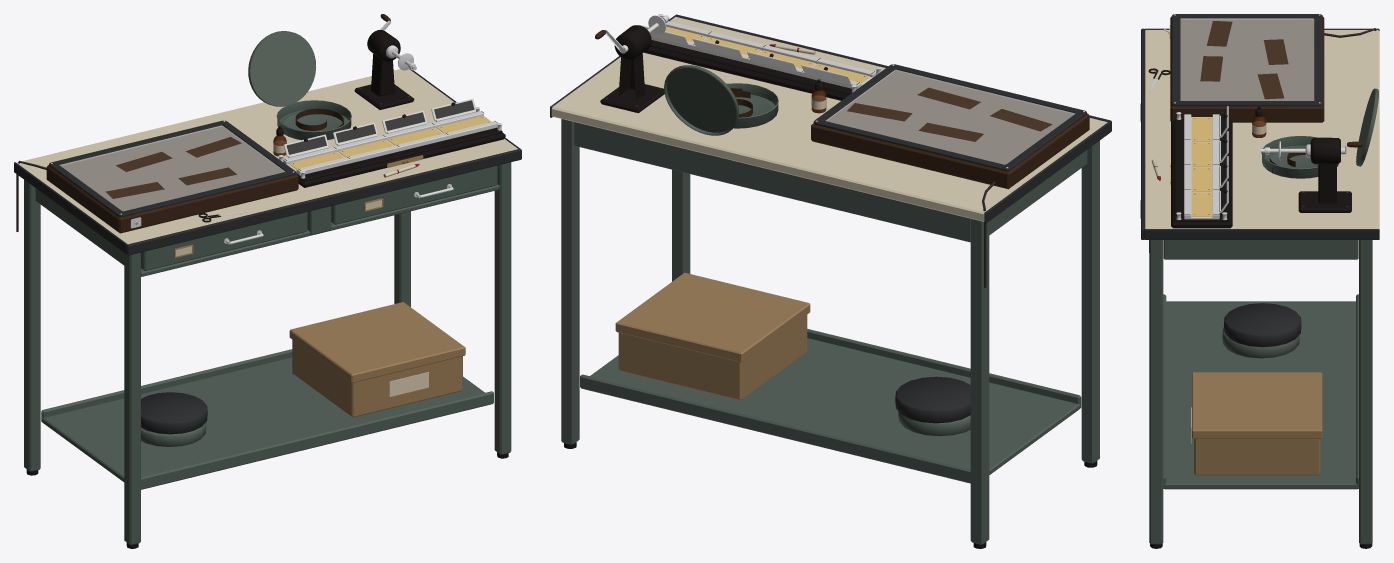
The model's file is film_splicer.glb.
3 renders of one model, left to right at view 1: azimuth 30°, elevation 25°; view 2: azimuth 150°, elevation 25°; view 3: azimuth 270°, elevation 25°, orthographic. The views are drawn at different scales.
Parts seen in each view (by area): view 1: bench, light_box, light_box_glass, splice_block, reel_can_lid, rewind, reel_can, bench_dressing; view 2: bench, light_box, light_box_glass, splice_block, reel_can_lid, rewind, reel_can; view 3: bench, light_box, light_box_glass, splice_block, rewind, reel_can, reel_can_lid, bench_dressing, IA_frame_2, IA_frame_1, IA_frame_3, IA_frame_0 (+4 smaller).
Boxes of the visible parts, <box> form: bench: <box>14,69,521,548</box>; light_box: <box>16,120,298,233</box>; light_box_glass: <box>59,125,285,211</box>; splice_block: <box>279,98,505,187</box>; reel_can_lid: <box>248,31,315,106</box>; rewind: <box>354,14,416,109</box>; reel_can: <box>276,100,351,140</box>; bench_dressing: <box>198,126,419,222</box>; bench: <box>550,14,1111,548</box>; light_box: <box>811,64,1089,287</box>; light_box_glass: <box>825,69,1075,164</box>; splice_block: <box>638,14,880,100</box>; reel_can_lid: <box>664,65,739,135</box>; rewind: <box>595,15,669,113</box>; reel_can: <box>726,83,778,128</box>; bench: <box>1140,28,1379,548</box>; light_box: <box>1163,14,1376,122</box>; light_box_glass: <box>1180,18,1314,100</box>; splice_block: <box>1170,106,1232,228</box>; rewind: <box>1261,137,1362,212</box>; reel_can: <box>1261,136,1338,178</box>; reel_can_lid: <box>1356,88,1378,166</box>; bench_dressing: <box>1148,68,1266,180</box>; IA_frame_2: <box>1200,56,1222,81</box>; IA_frame_1: <box>1263,39,1288,64</box>; IA_frame_3: <box>1257,73,1284,99</box>; IA_frame_0: <box>1206,21,1232,46</box>.
Bounding box in the file's own units: 1.2 × 1.1 × 0.6058.
